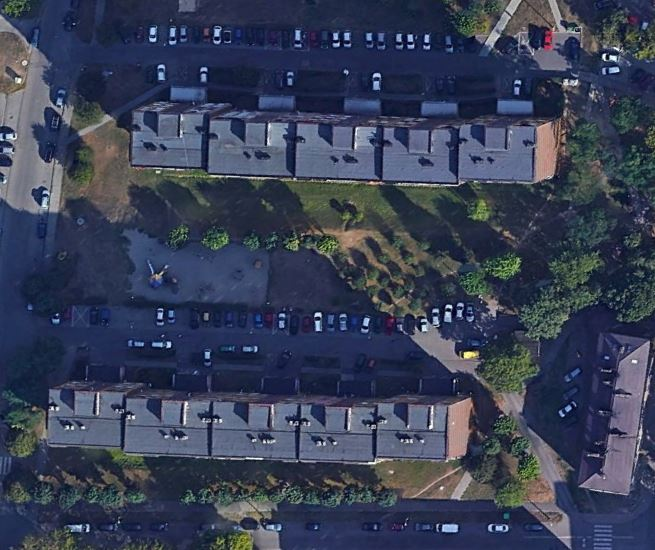block of flats: (123, 96, 572, 193), (42, 375, 478, 474), (574, 328, 655, 499)
